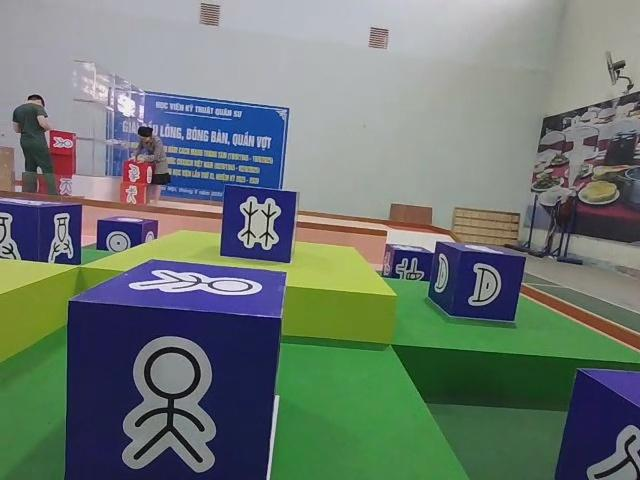R2 Real Blue: (67, 259, 288, 480), (555, 370, 640, 480), (429, 241, 528, 324), (222, 186, 300, 265), (0, 197, 80, 265), (97, 215, 160, 252), (383, 245, 436, 282)
